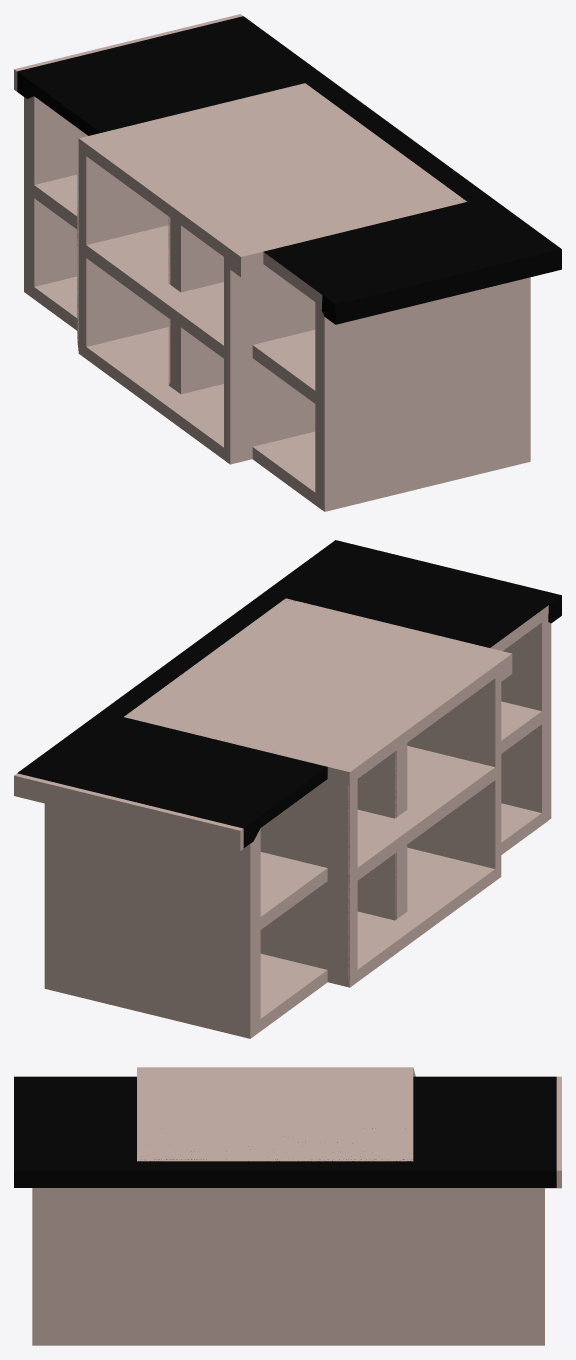
File: Counters.fbx
3 views of the same model, one above another, from view 1: azimuth 30°, elevation 25°; view 2: azimuth 150°, elevation 25°; view 3: azimuth 270°, elevation 25° (orthographic). The views are drawn at different scales.
Parts seen in each view (by area): view 1: pCube2, pCube4, pCube5, pCube3; view 2: pCube4, pCube2, pCube3, pCube5; view 3: pCube2, pCube3, pCube4.
Part boxes in pixels (left/top/right/bottom): pCube2: left=17, top=16, right=561, bottom=511; pCube4: left=77, top=83, right=466, bottom=464; pCube5: left=168, top=217, right=322, bottom=509; pCube3: left=14, top=14, right=242, bottom=330; pCube4: left=124, top=598, right=512, bottom=987; pCube2: left=17, top=540, right=561, bottom=1035; pCube3: left=14, top=752, right=394, bottom=1038; pCube5: left=395, top=605, right=548, bottom=920; pCube2: left=14, top=1076, right=556, bottom=1345; pCube3: left=285, top=1076, right=561, bottom=1345; pCube4: left=137, top=1067, right=415, bottom=1161.
Bounding box in the file's own units: 8.53 × 7.06 × 19.09.
